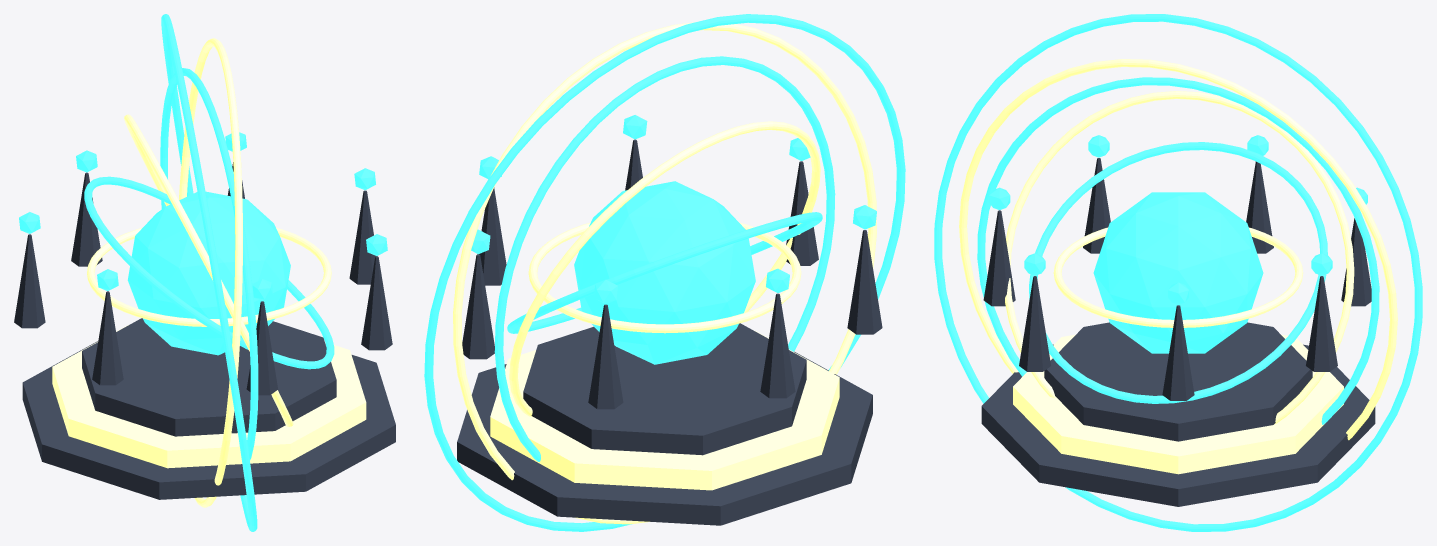
Rendered from gpu-blender-v52.glb.
3 renders of one model, left to right at view 1: azimuth 30°, elevation 25°; view 2: azimuth 150°, elevation 25°; view 3: azimuth 270°, elevation 25°, orthographic. The views are drawn at different scales.
Visible parts, largest first — view 1: Cylinder.002, Cylinder, SovereignCore_city-desk, Cylinder.001, Torus.005, Torus.004, Torus.003, Torus.001, Torus, Torus.002, Cone.003, Cone.006 (+4 smaller); view 2: Cylinder.002, SovereignCore_city-desk, Cylinder, Cylinder.001, Torus.005, Torus.003, Torus.004, Torus.002, Torus.001, Torus, Cone.002, Cone.003 (+4 smaller); view 3: SovereignCore_city-desk, Cylinder.002, Cylinder, Cylinder.001, Torus.005, Torus.004, Torus.003, Torus.002, Torus.001, Torus, Cone, Cone.001 (+5 smaller).
Part boxes in pixels (x1=…): Cylinder.002: x1=82, y1=318, x2=336, y2=436; Cylinder: x1=22, y1=341, x2=395, y2=499; SovereignCore_city-desk: x1=127, y1=191, x2=290, y2=355; Cylinder.001: x1=52, y1=325, x2=366, y2=468; Torus.005: x1=161, y1=14, x2=257, y2=531; Torus.004: x1=179, y1=38, x2=242, y2=507; Torus.003: x1=160, y1=68, x2=258, y2=459; Torus.001: x1=84, y1=176, x2=334, y2=369; Torus: x1=87, y1=227, x2=331, y2=326; Torus.002: x1=124, y1=114, x2=293, y2=426; Cone.003: x1=14, y1=234, x2=45, y2=328; Cone.006: x1=361, y1=256, x2=392, y2=350; Cylinder.002: x1=523, y1=323, x2=806, y2=455; SovereignCore_city-desk: x1=574, y1=181, x2=755, y2=364; Cylinder: x1=457, y1=351, x2=872, y2=525; Cylinder.001: x1=490, y1=330, x2=839, y2=490; Torus.005: x1=424, y1=14, x2=905, y2=531; Torus.003: x1=494, y1=56, x2=835, y2=461; Torus.004: x1=453, y1=22, x2=876, y2=524; Torus.002: x1=509, y1=121, x2=820, y2=416; Torus.001: x1=507, y1=212, x2=822, y2=333; Torus: x1=528, y1=222, x2=801, y2=333; Cone.002: x1=588, y1=304, x2=623, y2=409; Cone.003: x1=760, y1=293, x2=795, y2=398; SovereignCore_city-desk: x1=1093, y1=192, x2=1263, y2=353; Cylinder.002: x1=1044, y1=322, x2=1312, y2=441; Cylinder: x1=981, y1=344, x2=1375, y2=506; Cylinder.001: x1=1013, y1=334, x2=1343, y2=474; Torus.005: x1=934, y1=14, x2=1422, y2=531; Torus.004: x1=959, y1=59, x2=1397, y2=440; Torus.003: x1=977, y1=77, x2=1379, y2=424; Torus.002: x1=1005, y1=91, x2=1354, y2=423; Torus.001: x1=1029, y1=142, x2=1327, y2=403; Torus: x1=1053, y1=227, x2=1303, y2=327; Cone: x1=1162, y1=305, x2=1194, y2=400; Cone.001: x1=1306, y1=276, x2=1337, y2=371.
Size of the model in its own units: 4.41 by 5.93 by 5.46.
